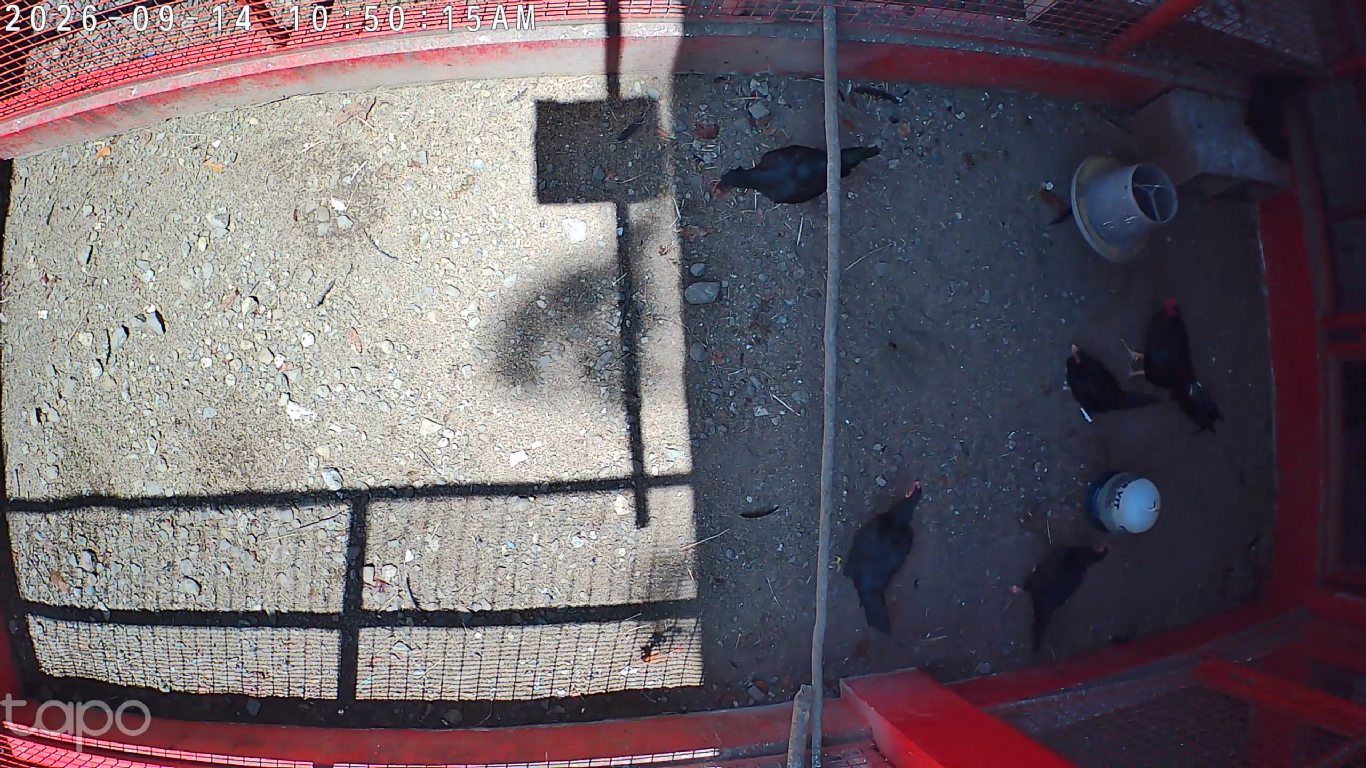Chicken: (830, 475, 926, 641), (1006, 541, 1112, 658), (705, 144, 886, 209), (1056, 338, 1161, 427)
Leg_Band_Pink: (1009, 584, 1020, 594)
Leg_Band_White: (1078, 404, 1094, 425)
Leg_Band_Yellow: (832, 553, 845, 566)
Rooster: (1116, 296, 1223, 440)
